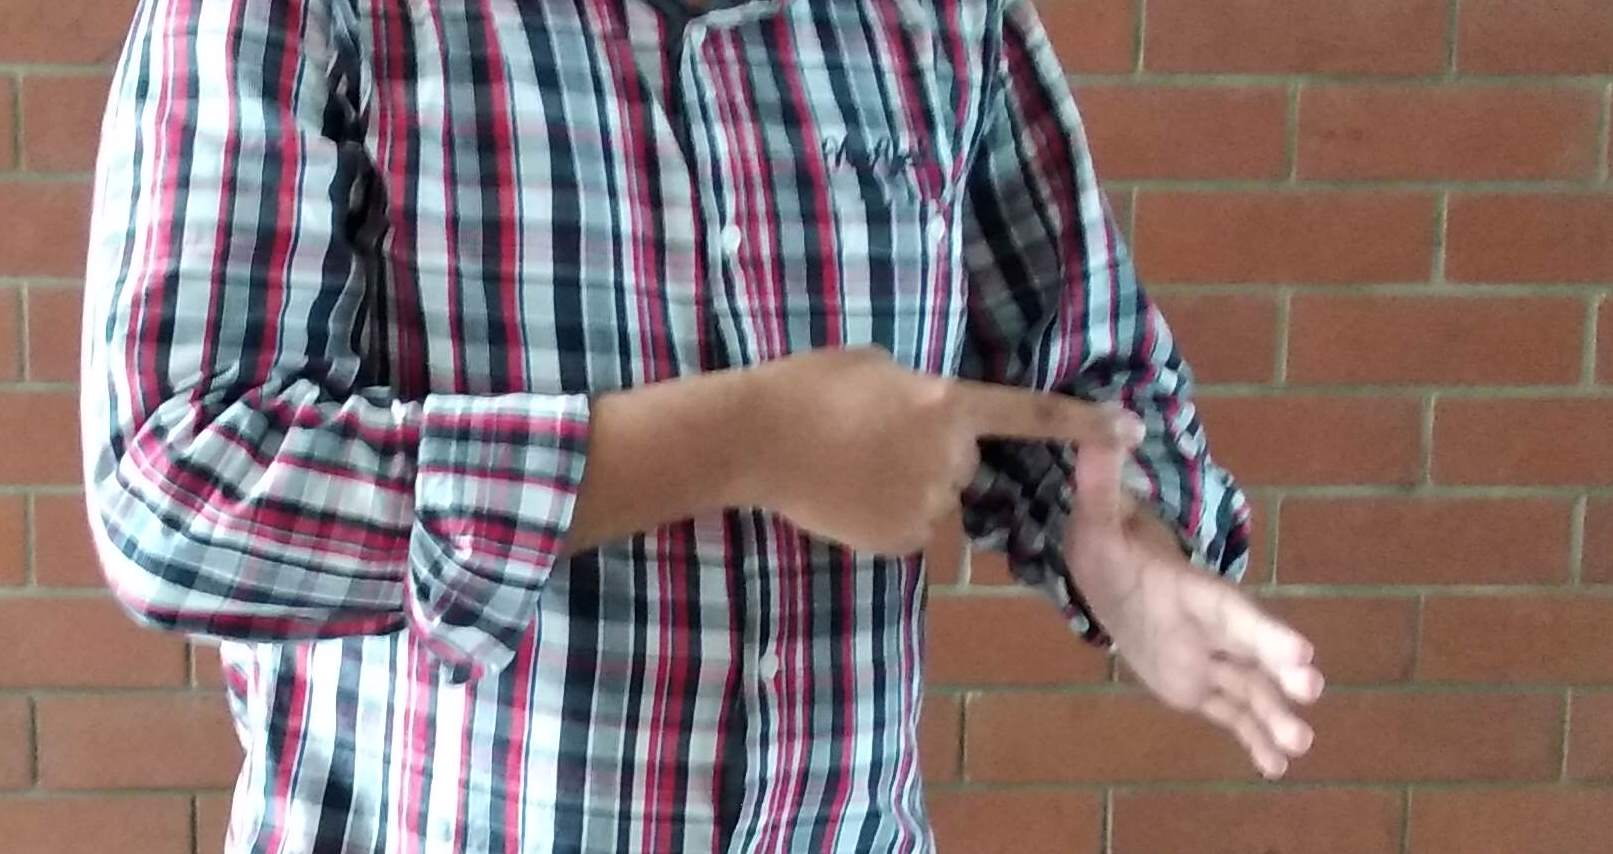a: (813, 337, 1301, 793)
